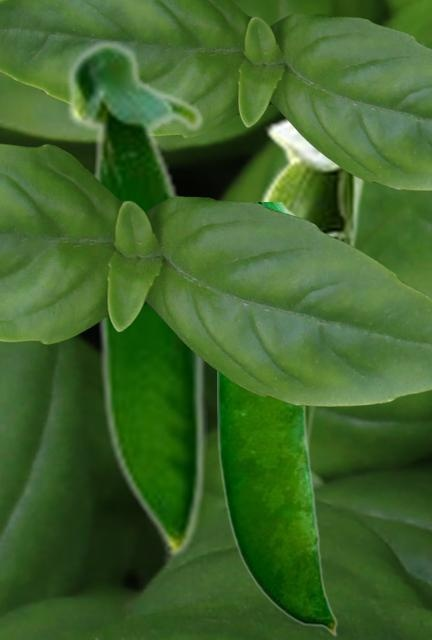pea: (64, 37, 206, 566), (217, 202, 336, 635), (252, 113, 369, 466)
